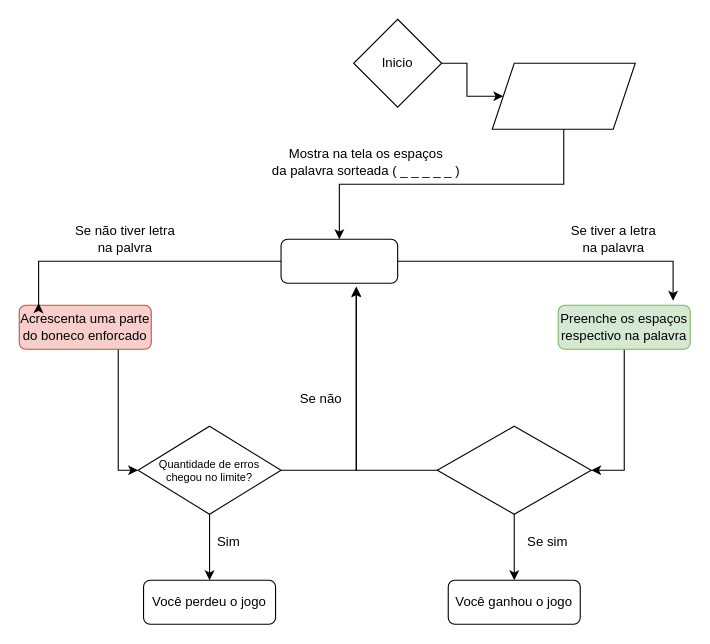
The diagram is 710 pixels wide and 644 high, and some of its shapes have lost their labels. The centre of each missing label's shape, as x and y in pixels:
"Gera uma palavra aleatória de uma lista definida." goes at [563,95].
"Insira uma letra" goes at [339,260].
"Todas letras foram preenchidas?" goes at [513,469].
